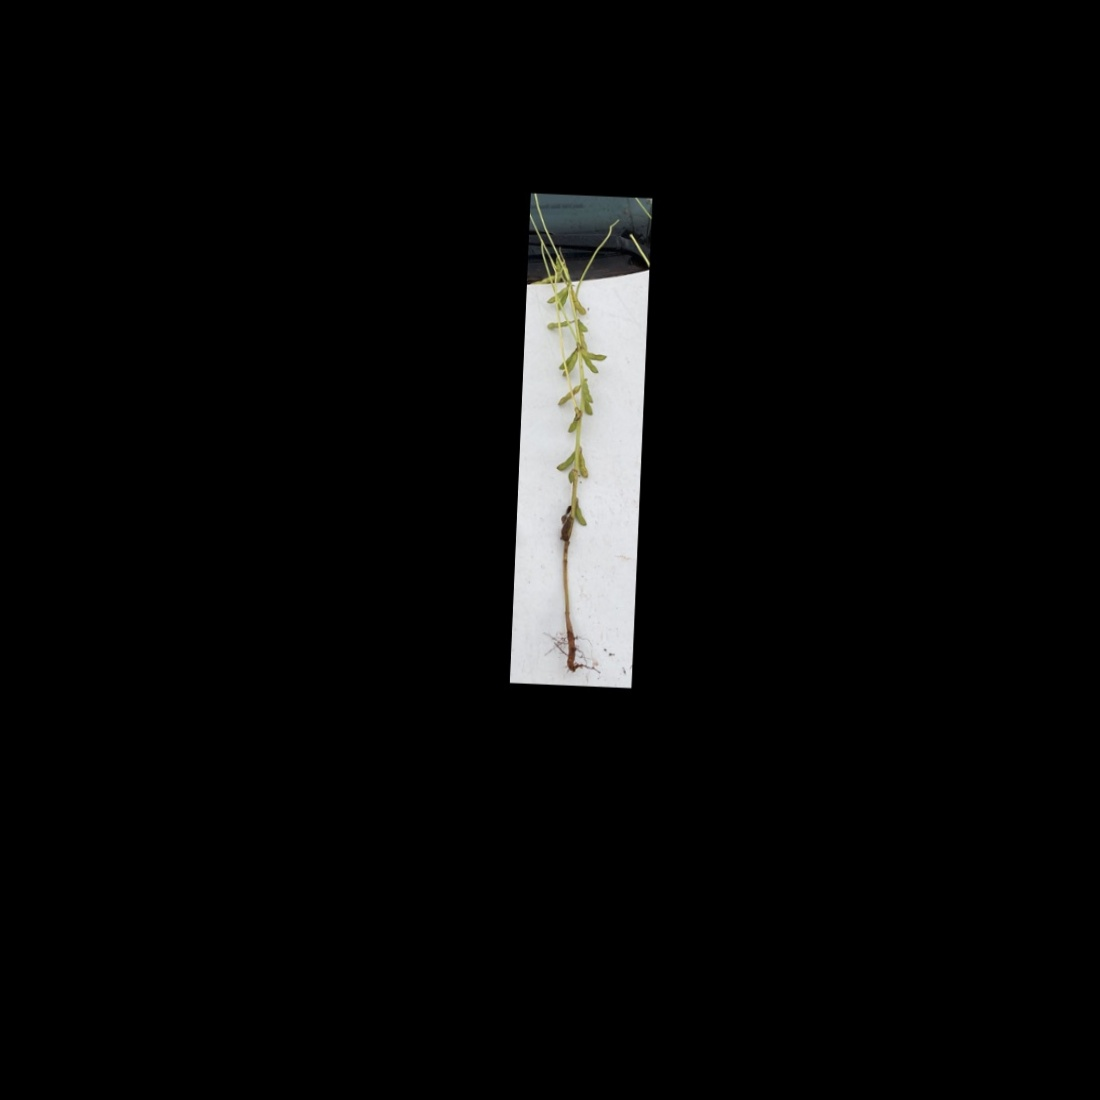pod: (555, 382, 584, 409), (569, 288, 589, 317), (561, 348, 579, 379), (546, 281, 568, 306), (554, 447, 575, 472), (576, 447, 590, 483), (580, 352, 601, 375), (572, 501, 588, 528), (581, 381, 596, 405)
soy: (528, 225, 616, 672)
